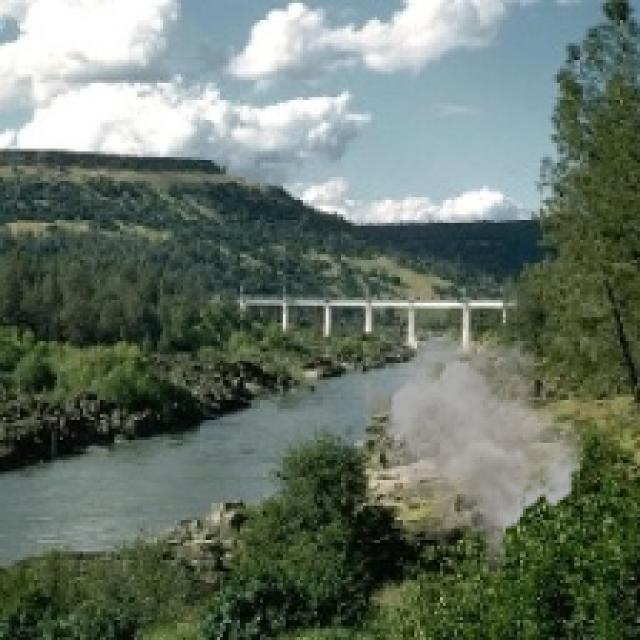Smoke: (348, 326, 586, 578)
